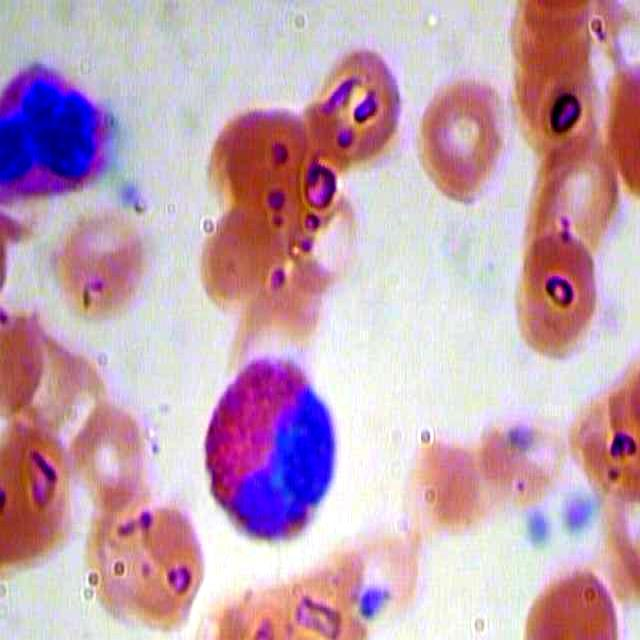Platelets: (520, 502, 555, 550), (561, 488, 596, 536), (353, 578, 388, 626), (502, 414, 537, 462), (114, 168, 150, 209)
RBC: (68, 494, 209, 630), (409, 72, 517, 215), (49, 189, 157, 332), (170, 193, 278, 336), (503, 224, 611, 367), (520, 125, 628, 268), (505, 40, 613, 183), (207, 79, 315, 221), (301, 31, 409, 173), (387, 426, 482, 550), (1, 431, 79, 580), (69, 384, 154, 511), (516, 553, 622, 640)
WBC: (196, 343, 345, 548), (1, 54, 121, 205)
